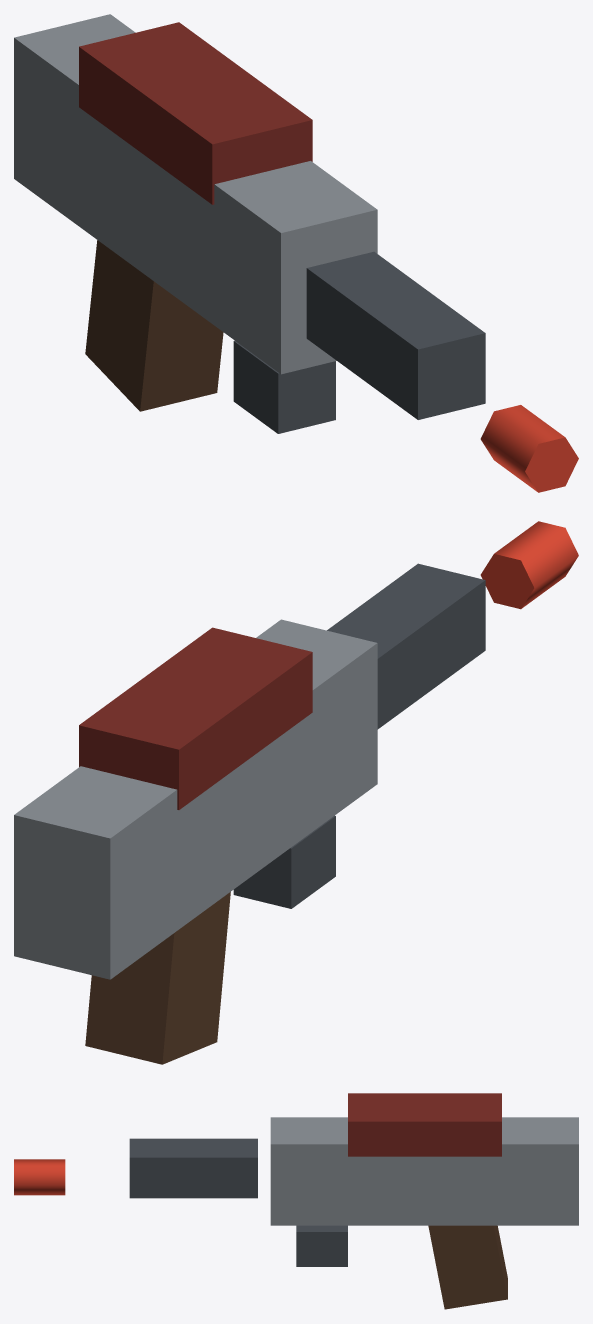
The picture shows the model from 3 angles, top to bottom: view 1: azimuth 30°, elevation 25°; view 2: azimuth 150°, elevation 25°; view 3: azimuth 270°, elevation 25°; orthographic projection. The views are drawn at different scales.
Visible parts, largest first — view 1: garde_weapon_laser_pistol; view 2: garde_weapon_laser_pistol; view 3: garde_weapon_laser_pistol.
Boxes of the visible parts, box(x1,y1,x2,y2) form: garde_weapon_laser_pistol: box(14, 14, 578, 492); garde_weapon_laser_pistol: box(14, 521, 578, 1064); garde_weapon_laser_pistol: box(14, 1093, 578, 1309).
Bounding box in the file's own units: 0.052 × 0.1643 × 0.44.
